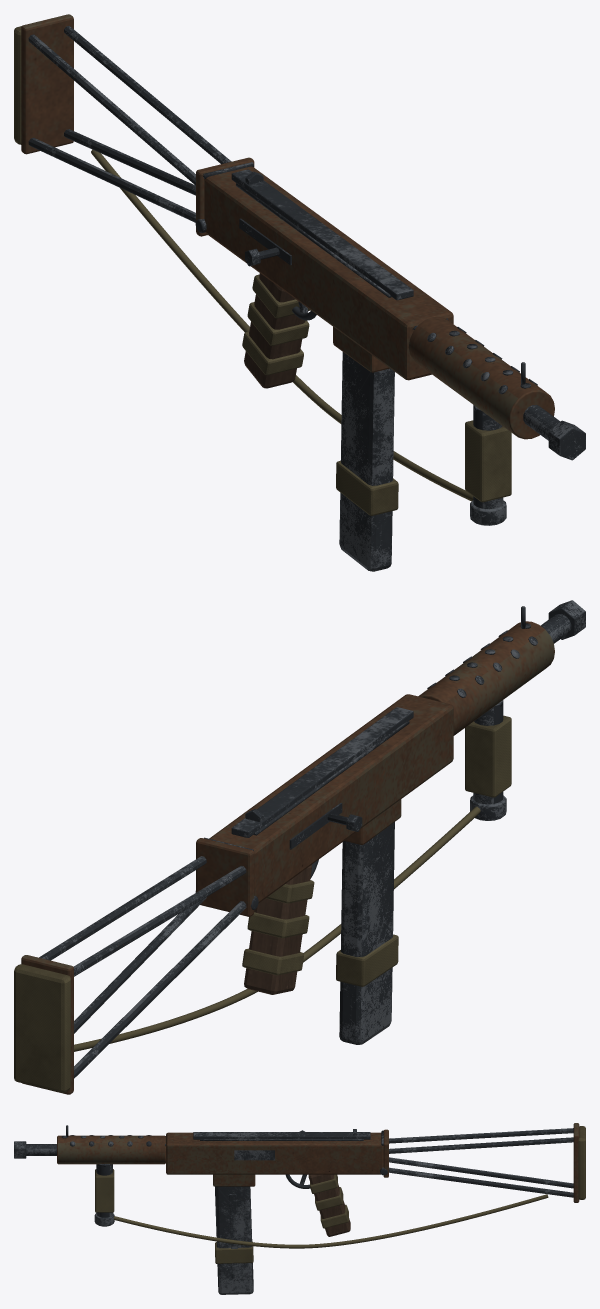
Rendered from wpn_sparrow.gltf.
The picture shows the model from 3 angles, top to bottom: view 1: azimuth 30°, elevation 25°; view 2: azimuth 150°, elevation 25°; view 3: azimuth 270°, elevation 25°; orthographic projection. The views are drawn at different scales.
Parts seen in each view (by area): view 1: wpn_sparrow_gun_scrap_metal_01, wpn_sparrow_gun_steel_01, wpn_sparrow_gun_cloth_01, wpn_sparrow_gun_wood_01; view 2: wpn_sparrow_gun_scrap_metal_01, wpn_sparrow_gun_steel_01, wpn_sparrow_gun_cloth_01, wpn_sparrow_gun_wood_01; view 3: wpn_sparrow_gun_scrap_metal_01, wpn_sparrow_gun_steel_01, wpn_sparrow_gun_cloth_01, wpn_sparrow_gun_wood_01.
Boxes of the visible parts, x1,y1,x2,y2 form: wpn_sparrow_gun_scrap_metal_01: (21,14,554,439); wpn_sparrow_gun_steel_01: (28,26,585,571); wpn_sparrow_gun_cloth_01: (14,26,511,515); wpn_sparrow_gun_wood_01: (244,273,305,388); wpn_sparrow_gun_scrap_metal_01: (21,621,554,1094); wpn_sparrow_gun_steel_01: (39,600,585,1078); wpn_sparrow_gun_cloth_01: (14,715,511,1092); wpn_sparrow_gun_wood_01: (244,865,311,994); wpn_sparrow_gun_scrap_metal_01: (57,1123,579,1202); wpn_sparrow_gun_steel_01: (14,1125,573,1294); wpn_sparrow_gun_cloth_01: (95,1126,585,1263); wpn_sparrow_gun_wood_01: (308,1174,350,1236).
Bounding box in the file's own units: 0.0762 × 0.2706 × 0.839.
Materials: 4 (4 with a texture image).
